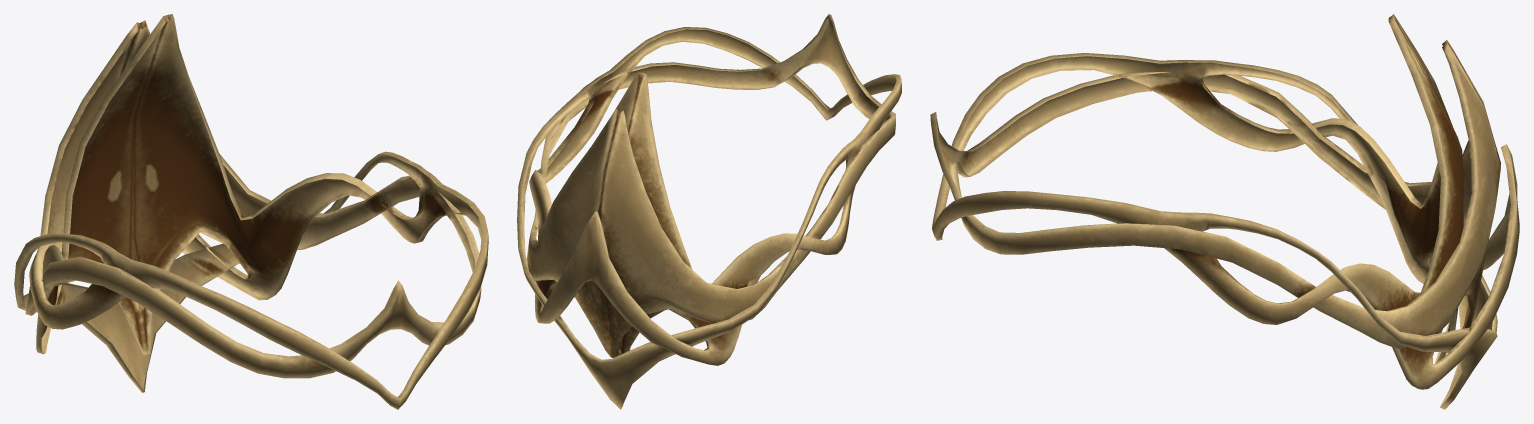
Rendered from rivendell_helmet_lord_circlet.fbx.
3 views of the same model, side by side, from view 1: azimuth 30°, elevation 25°; view 2: azimuth 150°, elevation 25°; view 3: azimuth 270°, elevation 25° (orthographic). The views are drawn at different scales.
Parts seen in each view (by area): view 1: rivendell_helmet_lord_circlet; view 2: rivendell_helmet_lord_circlet; view 3: rivendell_helmet_lord_circlet.
Boxes of the visible parts, x1=… form: rivendell_helmet_lord_circlet: x1=14, y1=14, x2=488, y2=409; rivendell_helmet_lord_circlet: x1=517, y1=14, x2=901, y2=409; rivendell_helmet_lord_circlet: x1=930, y1=14, x2=1519, y2=409.
Bounding box in the file's own units: 0.1821 × 0.257 × 0.1897.
1 material, 1 textured.
